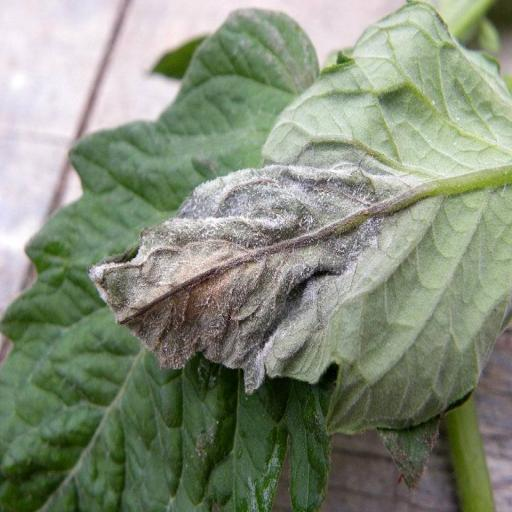Late Blight: (82, 12, 508, 436)
